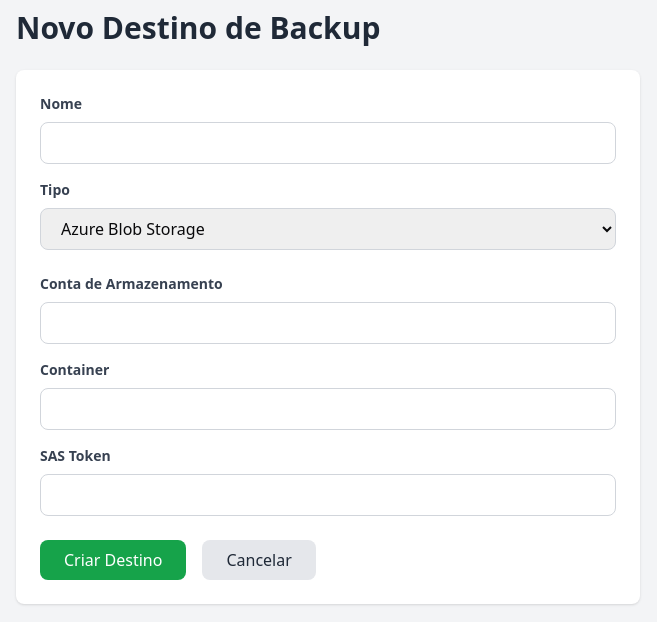
Scenario: StorageTargetNewView › should render filesystem fields when type is switched to filesystem
Select "Pasta Local / NFS" in the dropdown with test id "type-select" at [328, 229], box [40,208,616,250]
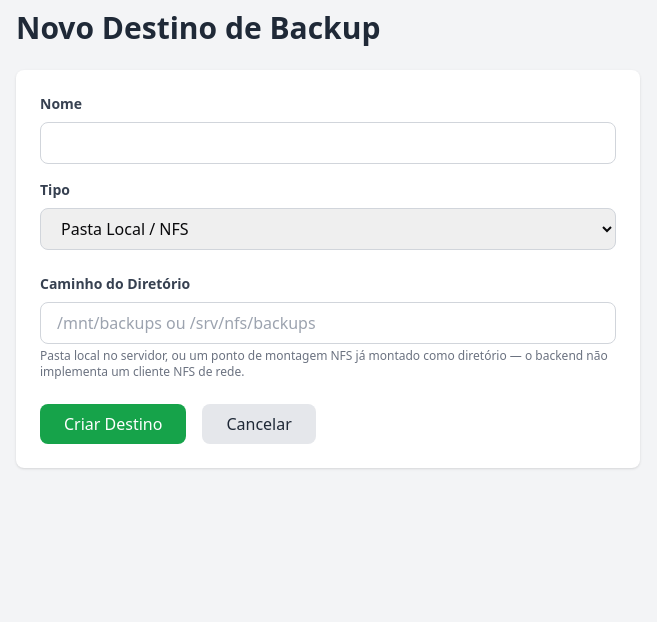
Now the field with test id "root-path-input" is shown, box [40,302,616,344]
